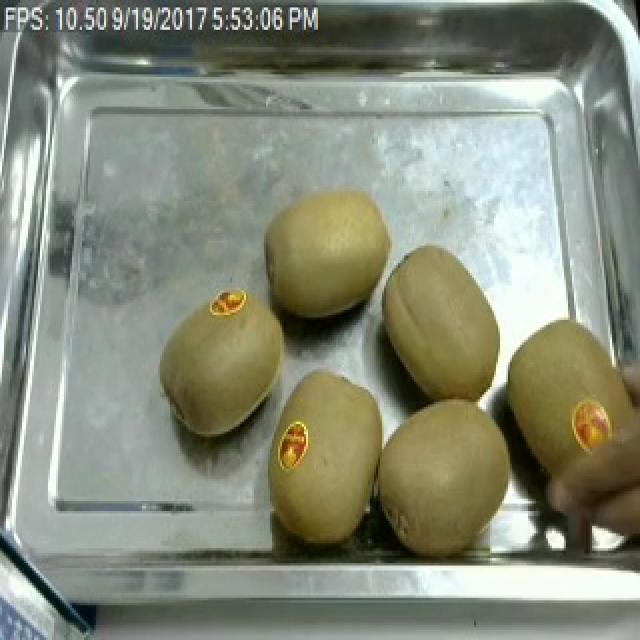Fruit: (490, 308, 640, 538), (376, 390, 524, 558), (372, 236, 512, 409), (266, 360, 386, 558), (152, 280, 294, 444), (256, 179, 406, 325)
